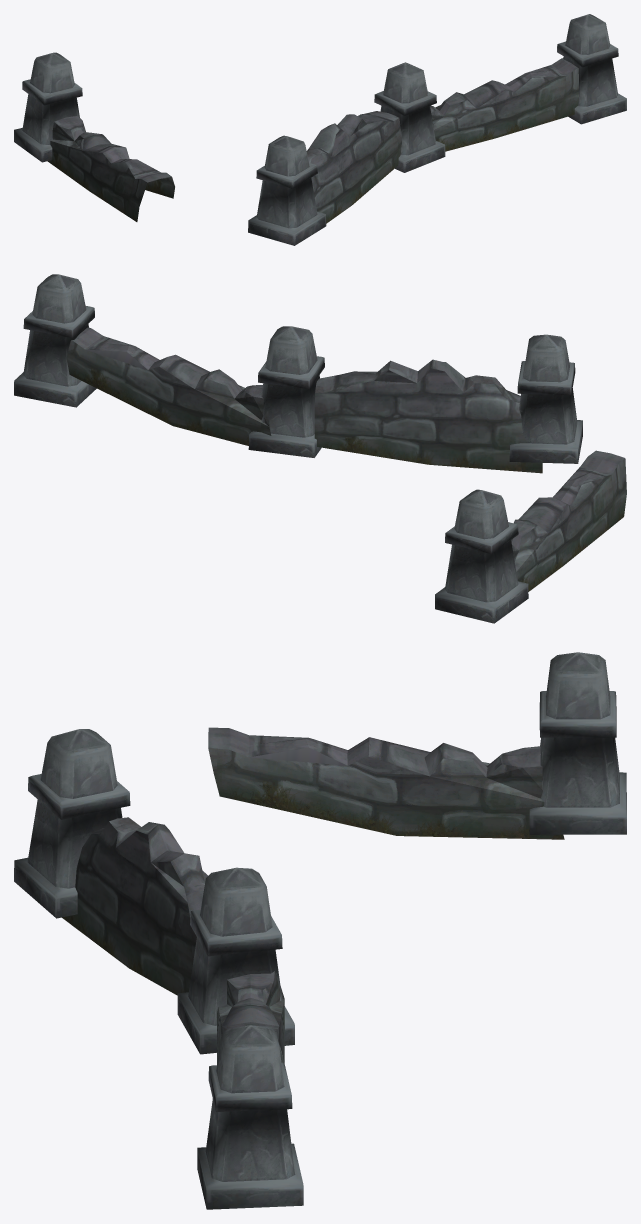
File: object_stonewalls.fbx
3 views of the same model, one above another, from view 1: azimuth 30°, elevation 25°; view 2: azimuth 150°, elevation 25°; view 3: azimuth 270°, elevation 25° (orthographic). The views are drawn at different scales.
Parts seen in each view (by area): view 1: object_stonewalls-0; view 2: object_stonewalls-0; view 3: object_stonewalls-0.
Boxes of the visible parts, x1,y1,x2,y2 form: object_stonewalls-0: (14, 14, 626, 245); object_stonewalls-0: (14, 274, 626, 623); object_stonewalls-0: (14, 652, 626, 1209).
Bounding box in the file's own units: 12.12 × 2.44 × 7.55.
